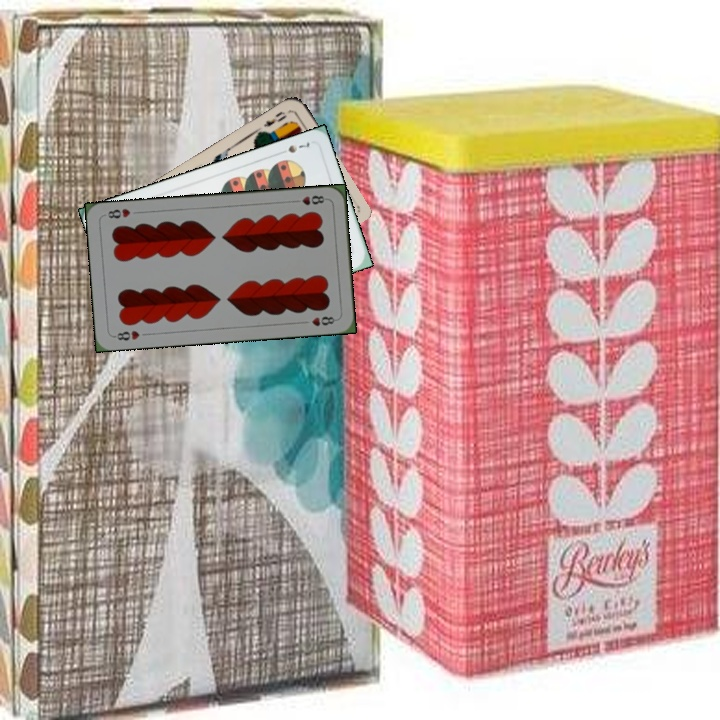EO: (260, 107, 289, 130)
H8: (289, 191, 329, 208), (110, 326, 142, 343)
S7: (274, 138, 312, 157)
